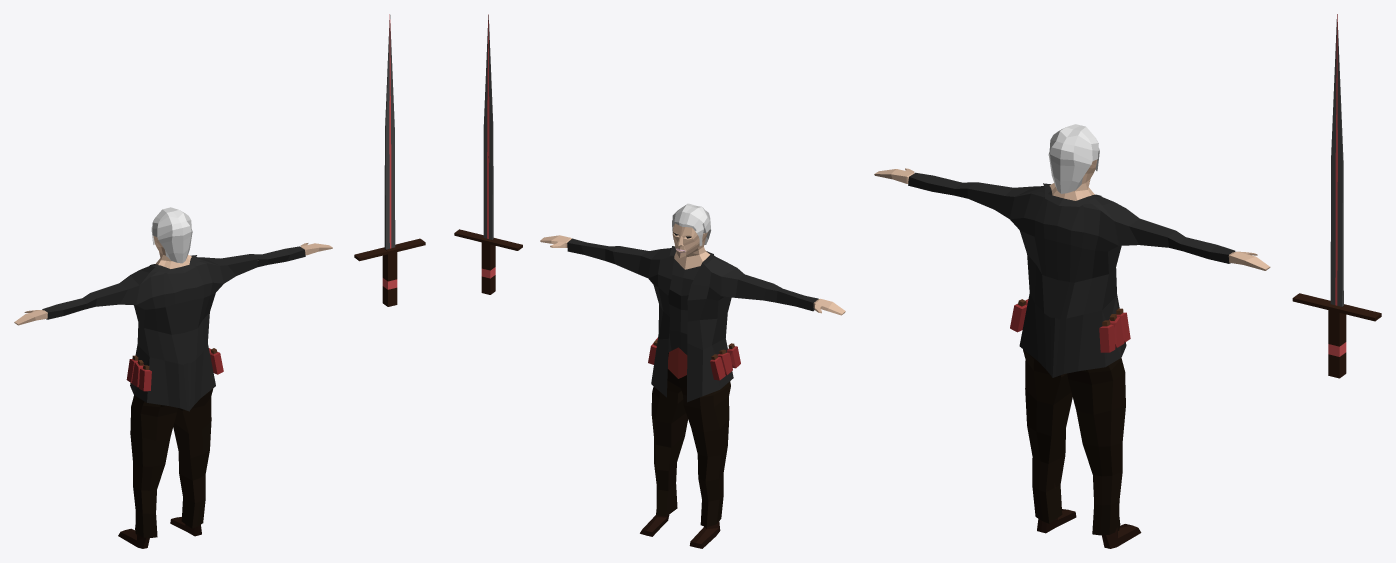
The model's file is bloodhunter-human1_lp.fbx.
3 views of the same model, side by side, from view 1: azimuth 30°, elevation 25°; view 2: azimuth 150°, elevation 25°; view 3: azimuth 330°, elevation 25° (orthographic). The views are drawn at different scales.
Visible parts, largest first — view 1: cape, pants, Cube, body; view 2: cape, pants, body, Cube; view 3: cape, pants, Cube, body.
Boxes of the visible parts, <box> form: cape: <box>42,246,305,411</box>; pants: <box>130,388,213,537</box>; Cube: <box>354,14,425,306</box>; body: <box>14,207,332,548</box>; cape: <box>567,238,818,402</box>; pants: <box>651,347,730,527</box>; body: <box>540,203,845,548</box>; Cube: <box>454,14,522,294</box>; cape: <box>908,172,1235,377</box>; pants: <box>1023,349,1125,535</box>; Cube: <box>1292,14,1381,378</box>; body: <box>874,124,1270,548</box>.
Size of the model in its own units: 313 by 355 by 51.77.
